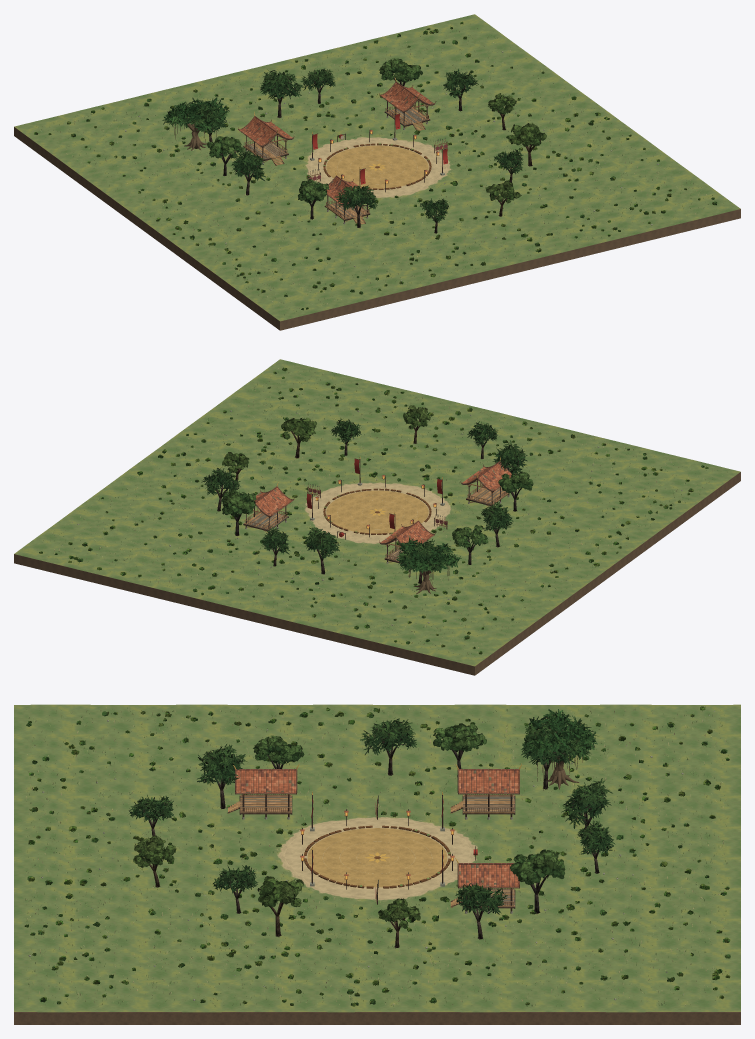
The model's file is duel-arena.glb.
3 renders of one model, top to bottom at view 1: azimuth 30°, elevation 25°; view 2: azimuth 150°, elevation 25°; view 3: azimuth 270°, elevation 25°, orthographic. The views are drawn at different scales.
Visible parts, largest first — view 1: Ground - varied meadow | grass, Soil foundation | earth, Organic tree foliage | real bushes, Courtyard - raked sand floor | sand_raked, Tracks - arena apron | path, Roof / overlapping clay tiles | roof, Organic tree foliage | capital-banyan-crown, Fine meadow grass blades | grassblade, Organic tree foliage | mango-322.001, Fine meadow grass blades | grassdry, Feathered road shoulders | path_edge, Fine meadow grass blades | grassblade2 (+9 smaller); view 2: Ground - varied meadow | grass, Soil foundation | earth, Organic tree foliage | real bushes, Courtyard - raked sand floor | sand_raked, Tracks - arena apron | path, Roof / overlapping clay tiles | roof, Organic tree foliage | capital-banyan-crown, Fine meadow grass blades | grassblade2, Fine meadow grass blades | grassblade, Fine meadow grass blades | grassdry, Feathered road shoulders | path_edge, Organic tree foliage | rain-315 (+7 smaller); view 3: Ground - varied meadow | grass, Soil foundation | earth, Organic tree foliage | real bushes, Courtyard - raked sand floor | sand_raked, Tracks - arena apron | path, Roof / overlapping clay tiles | roof, Organic tree foliage | capital-banyan-crown, Fine meadow grass blades | grassblade2, Fine meadow grass blades | grassblade, Fine meadow grass blades | grassdry, Feathered road shoulders | path_edge, Organic tree foliage | mango-322.001 (+22 smaller).
Boxes of the visible parts, left/top/right/bottom form: Ground - varied meadow | grass: left=14, top=14, right=740, bottom=321; Soil foundation | earth: left=14, top=127, right=740, bottom=330; Organic tree foliage | real bushes: left=34, top=21, right=716, bottom=310; Courtyard - raked sand floor | sand_raked: left=326, top=145, right=428, bottom=188; Tracks - arena apron | path: left=311, top=139, right=445, bottom=195; Roof / overlapping clay tiles | roof: left=240, top=83, right=433, bottom=203; Organic tree foliage | capital-banyan-crown: left=162, top=97, right=229, bottom=131; Fine meadow grass blades | grassblade: left=39, top=26, right=712, bottom=315; Organic tree foliage | mango-322.001: left=260, top=69, right=304, bottom=99; Fine meadow grass blades | grassdry: left=56, top=24, right=707, bottom=310; Feathered road shoulders | path_edge: left=305, top=136, right=452, bottom=198; Fine meadow grass blades | grassblade2: left=42, top=30, right=710, bottom=306; Ground - varied meadow | grass: left=14, top=359, right=740, bottom=666; Soil foundation | earth: left=14, top=472, right=740, bottom=675; Organic tree foliage | real bushes: left=39, top=367, right=708, bottom=654; Courtyard - raked sand floor | sand_raked: left=326, top=490, right=428, bottom=533; Tracks - arena apron | path: left=310, top=484, right=446, bottom=541; Roof / overlapping clay tiles | roof: left=255, top=463, right=511, bottom=544; Organic tree foliage | capital-banyan-crown: left=396, top=537, right=461, bottom=572; Fine meadow grass blades | grassblade2: left=44, top=370, right=713, bottom=653; Fine meadow grass blades | grassblade: left=43, top=372, right=705, bottom=654; Fine meadow grass blades | grassdry: left=48, top=366, right=703, bottom=654; Feathered road shoulders | path_edge: left=304, top=482, right=453, bottom=543; Organic tree foliage | rain-315: left=221, top=489, right=256, bottom=517; Ground - varied meadow | grass: left=14, top=704, right=740, bottom=1012; Soil foundation | earth: left=14, top=1012, right=740, bottom=1024; Organic tree foliage | real bushes: left=24, top=706, right=730, bottom=1006; Courtyard - raked sand floor | sand_raked: left=307, top=828, right=447, bottom=887; Tracks - arena apron | path: left=285, top=820, right=469, bottom=897; Roof / overlapping clay tiles | roof: left=236, top=770, right=518, bottom=886; Organic tree foliage | capital-banyan-crown: left=521, top=709, right=598, bottom=757; Fine meadow grass blades | grassblade2: left=25, top=707, right=728, bottom=1006; Fine meadow grass blades | grassblade: left=26, top=707, right=728, bottom=1006; Fine meadow grass blades | grassdry: left=26, top=707, right=728, bottom=1005; Feathered road shoulders | path_edge: left=276, top=816, right=479, bottom=901; Organic tree foliage | mango-322.001: left=561, top=778, right=612, bottom=828.
Size of the model in its own units: 120 by 13.97 by 120.
32 materials, 32 textured.
